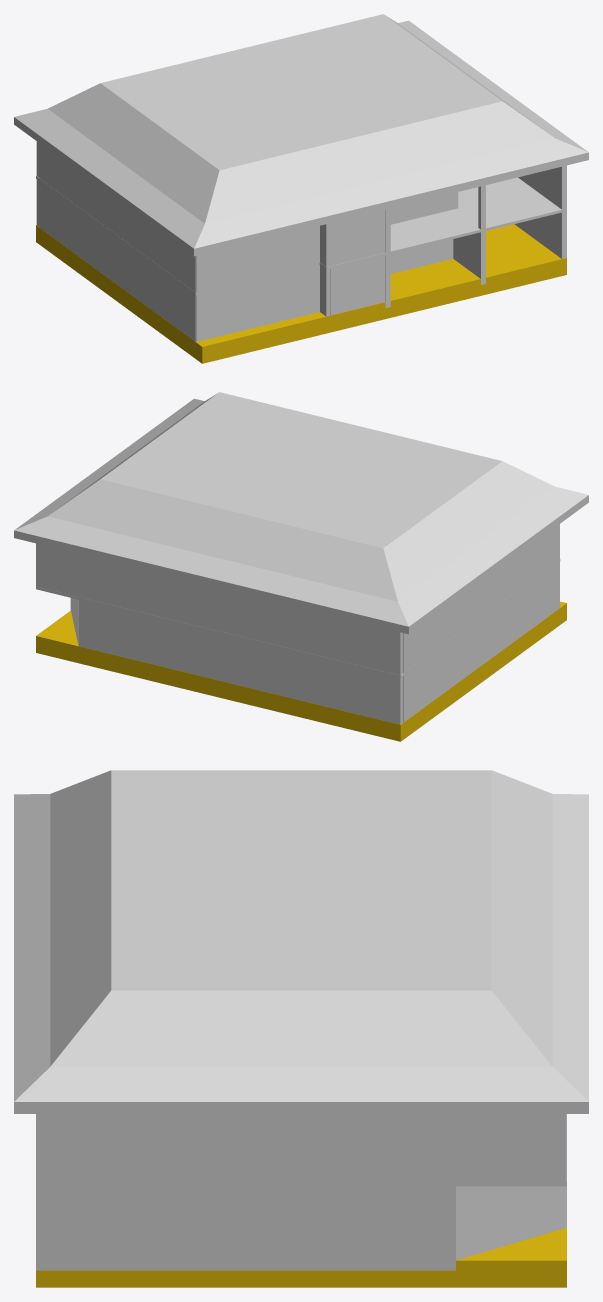
The model's file is horrorhouse.fbx.
3 renders of one model, top to bottom at view 1: azimuth 30°, elevation 25°; view 2: azimuth 150°, elevation 25°; view 3: azimuth 270°, elevation 25°, orthographic. The views are drawn at different scales.
Visible parts, largest first — view 1: Roof, Ground_floor, firstfloor.024, Second Floor ground, firstfloor.003, secondfloor.002, secondfloor.005, firstfloor.001, secondfloor.006, firstfloor.004, firstfloor.023, firstfloor.008 (+4 smaller); view 2: Roof, secondfloor.004, firstfloor.005, Ground_floor, firstfloor.024, secondfloor.002, Second Floor ground; view 3: Roof, secondfloor.003, firstfloor.004, Ground_floor, firstfloor.006.
Part boxes in pixels (bbox=[...]): Roof: bbox=[14, 14, 588, 256]; Ground_floor: bbox=[36, 224, 566, 363]; firstfloor.024: bbox=[39, 181, 195, 341]; Second Floor ground: bbox=[36, 175, 566, 295]; firstfloor.003: bbox=[196, 264, 319, 341]; secondfloor.002: bbox=[39, 143, 195, 292]; secondfloor.005: bbox=[196, 225, 319, 294]; firstfloor.001: bbox=[330, 256, 385, 315]; secondfloor.006: bbox=[331, 210, 385, 265]; firstfloor.004: bbox=[514, 211, 566, 258]; firstfloor.023: bbox=[390, 239, 453, 273]; firstfloor.008: bbox=[453, 230, 485, 284]; Roof: bbox=[14, 392, 588, 634]; secondfloor.004: bbox=[36, 543, 403, 675]; firstfloor.005: bbox=[78, 600, 403, 724]; Ground_floor: bbox=[36, 601, 566, 741]; firstfloor.024: bbox=[403, 562, 559, 722]; secondfloor.002: bbox=[403, 524, 559, 672]; Second Floor ground: bbox=[36, 559, 560, 677]; Roof: bbox=[14, 770, 588, 1113]; secondfloor.003: bbox=[36, 1114, 566, 1185]; firstfloor.004: bbox=[36, 1185, 455, 1270]; Ground_floor: bbox=[36, 1227, 566, 1287]; firstfloor.006: bbox=[456, 1186, 566, 1260].
Size of the model in its own units: 3260 by 1312 by 2576.
